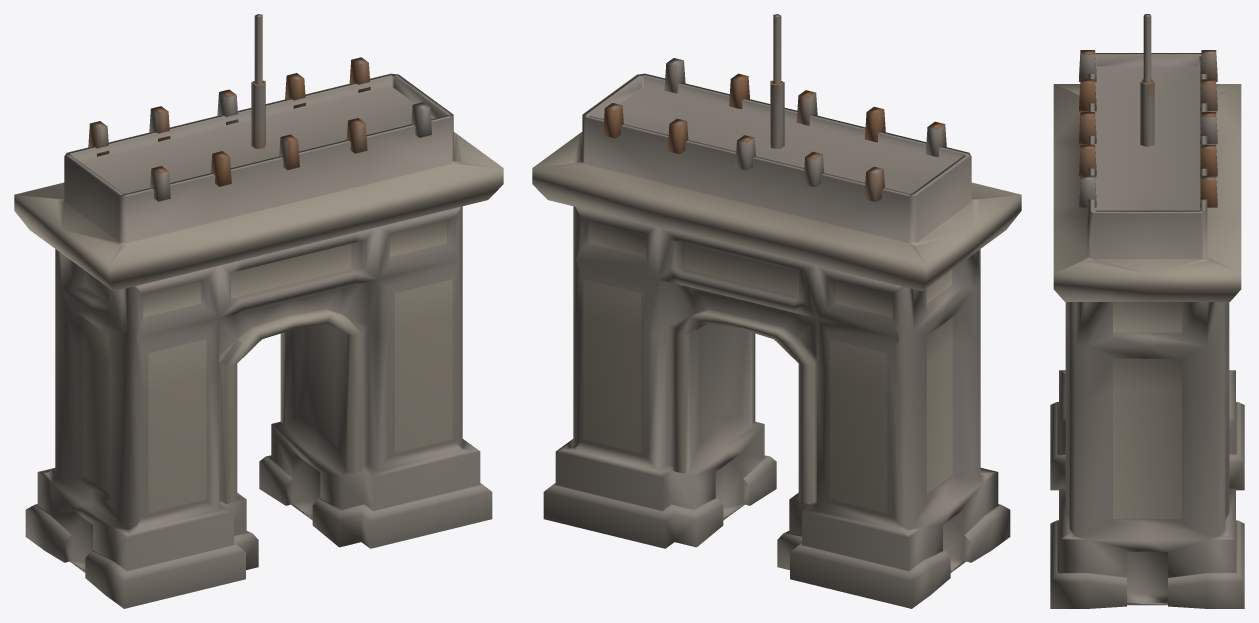
The model's file is Gate-1.fbx.
3 views of the same model, side by side, from view 1: azimuth 30°, elevation 25°; view 2: azimuth 150°, elevation 25°; view 3: azimuth 270°, elevation 25° (orthographic).
Parts seen in each view (by area): view 1: Gate; view 2: Gate; view 3: Gate.
Boxes of the visible parts, <box> form: Gate: <box>14,14,503,608</box>; Gate: <box>532,14,1021,608</box>; Gate: <box>1050,14,1244,608</box>.
Bounding box in the file's own units: 140 × 174 × 60.61.
